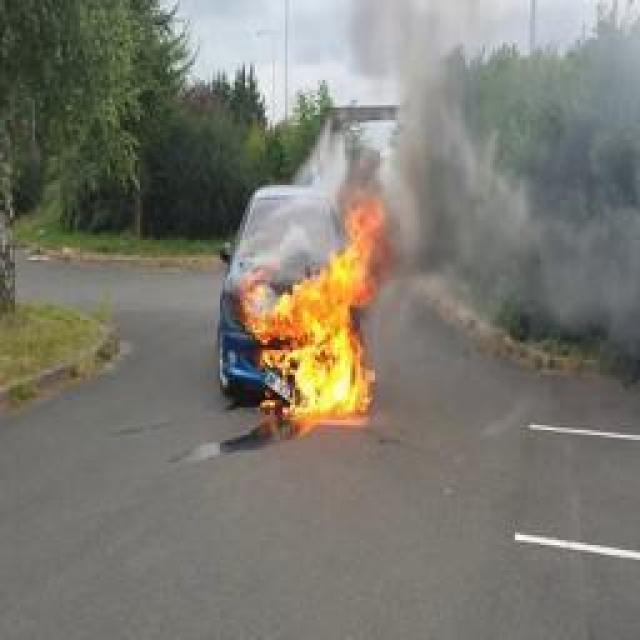Fire: (238, 197, 386, 425)
